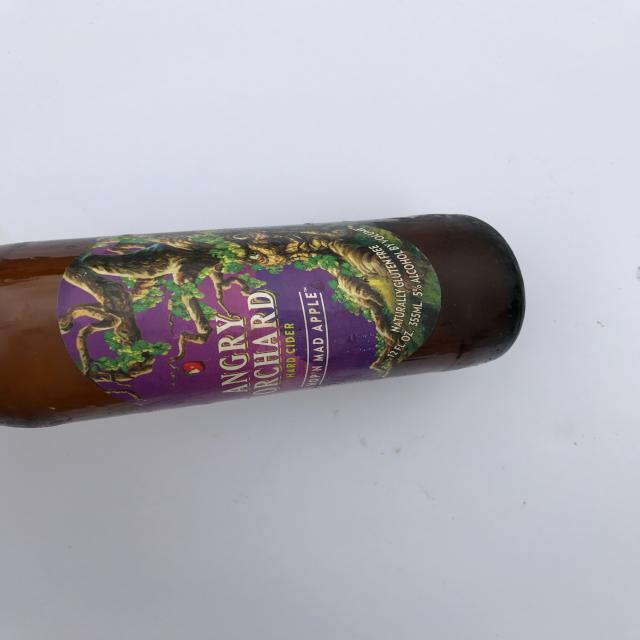glass: (1, 212, 526, 429)
